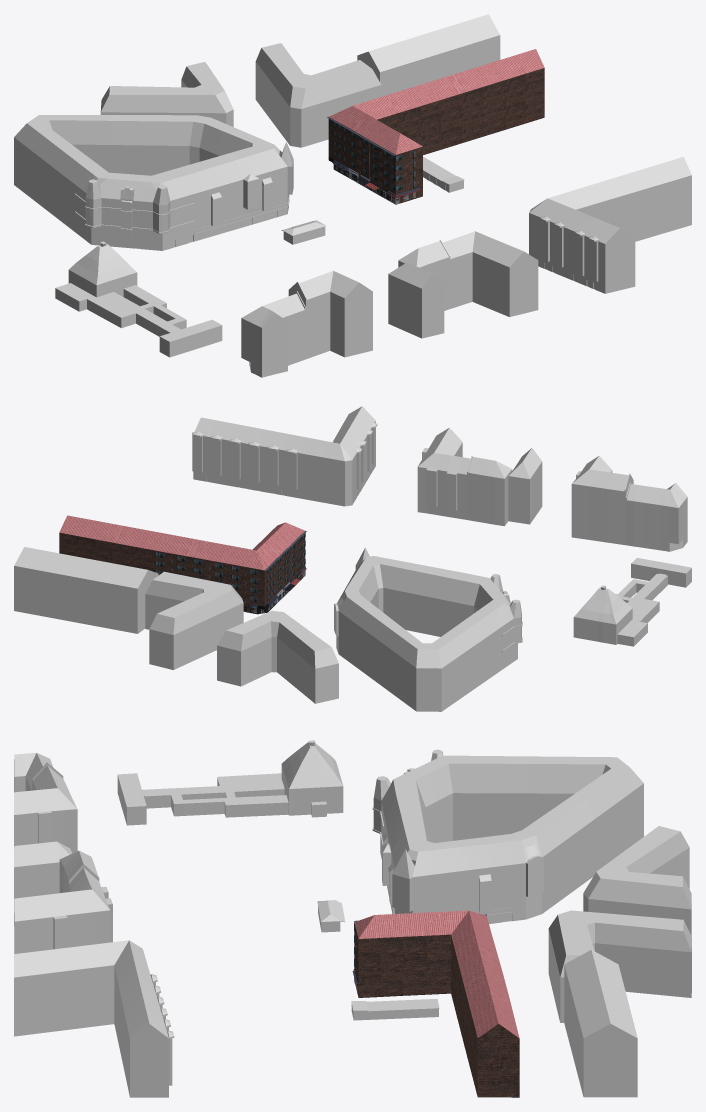
File: Map_Buildings_Stage_8.fbx
3 views of the same model, one above another, from view 1: azimuth 30°, elevation 25°; view 2: azimuth 150°, elevation 25°; view 3: azimuth 270°, elevation 25° (orthographic). The views are drawn at different scales.
Visible parts, largest first — view 1: Plane.003, Plane.007, Plane, Plane.001, Plane.002, Plane.005, Plane.010, Plane.006, Plane.004, Plane.008, Plane.009; view 2: Plane.003, Plane, Plane.007, Plane.006, Plane.001, Plane.002, Plane.004, Plane.005, Plane.010; view 3: Plane.003, Plane.007, Plane, Plane.010, Plane.005, Plane.001, Plane.006, Plane.004, Plane.002, Plane.008, Plane.009.
Part boxes in pixels (left/top/right/bottom): Plane.003: left=14, top=115, right=293, bottom=250; Plane.007: left=327, top=49, right=544, bottom=204; Plane: left=529, top=157, right=691, bottom=293; Plane.001: left=388, top=231, right=538, bottom=338; Plane.002: left=241, top=271, right=372, bottom=377; Plane.005: left=255, top=43, right=381, bottom=147; Plane.010: left=55, top=241, right=222, bottom=357; Plane.006: left=357, top=14, right=500, bottom=96; Plane.004: left=100, top=62, right=233, bottom=126; Plane.008: left=423, top=156, right=464, bottom=192; Plane.009: left=281, top=220, right=326, bottom=244; Plane.003: left=334, top=547, right=522, bottom=711; Plane: left=192, top=406, right=377, bottom=506; Plane.007: left=59, top=515, right=306, bottom=614; Plane.006: left=14, top=547, right=158, bottom=633; Plane.001: left=417, top=427, right=542, bottom=526; Plane.002: left=571, top=455, right=687, bottom=551; Plane.004: left=217, top=610, right=338, bottom=703; Plane.005: left=145, top=571, right=243, bottom=669; Plane.010: left=573, top=558, right=691, bottom=646; Plane.003: left=372, top=749, right=643, bottom=923; Plane.007: left=352, top=910, right=519, bottom=1097; Plane: left=14, top=940, right=174, bottom=1097; Plane.010: left=117, top=740, right=343, bottom=825; Plane.005: left=548, top=910, right=691, bottom=1022; Plane.001: left=14, top=841, right=112, bottom=953; Plane.006: left=564, top=949, right=637, bottom=1097; Plane.004: left=583, top=826, right=691, bottom=935; Plane.002: left=14, top=752, right=77, bottom=853; Plane.008: left=351, top=998, right=439, bottom=1020; Plane.009: left=317, top=900, right=345, bottom=932.
Bounding box in the file's own units: 2794 × 355 × 2500.
